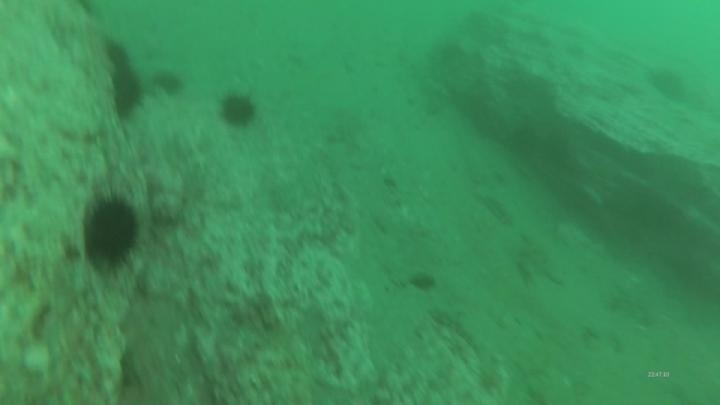echinus: (78, 189, 145, 271), (103, 65, 142, 112), (216, 90, 260, 131), (646, 65, 689, 103), (151, 67, 186, 99), (102, 38, 135, 68)
holothurian: (474, 190, 516, 228)
